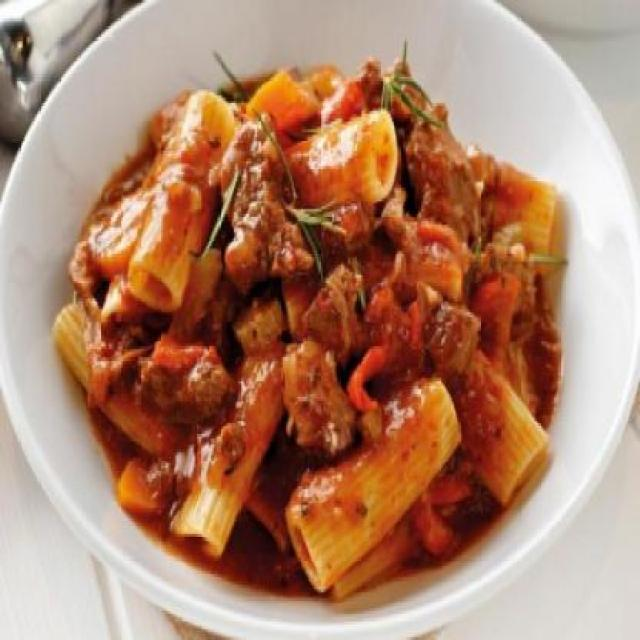Pasta al ragu: (74, 48, 586, 577)
